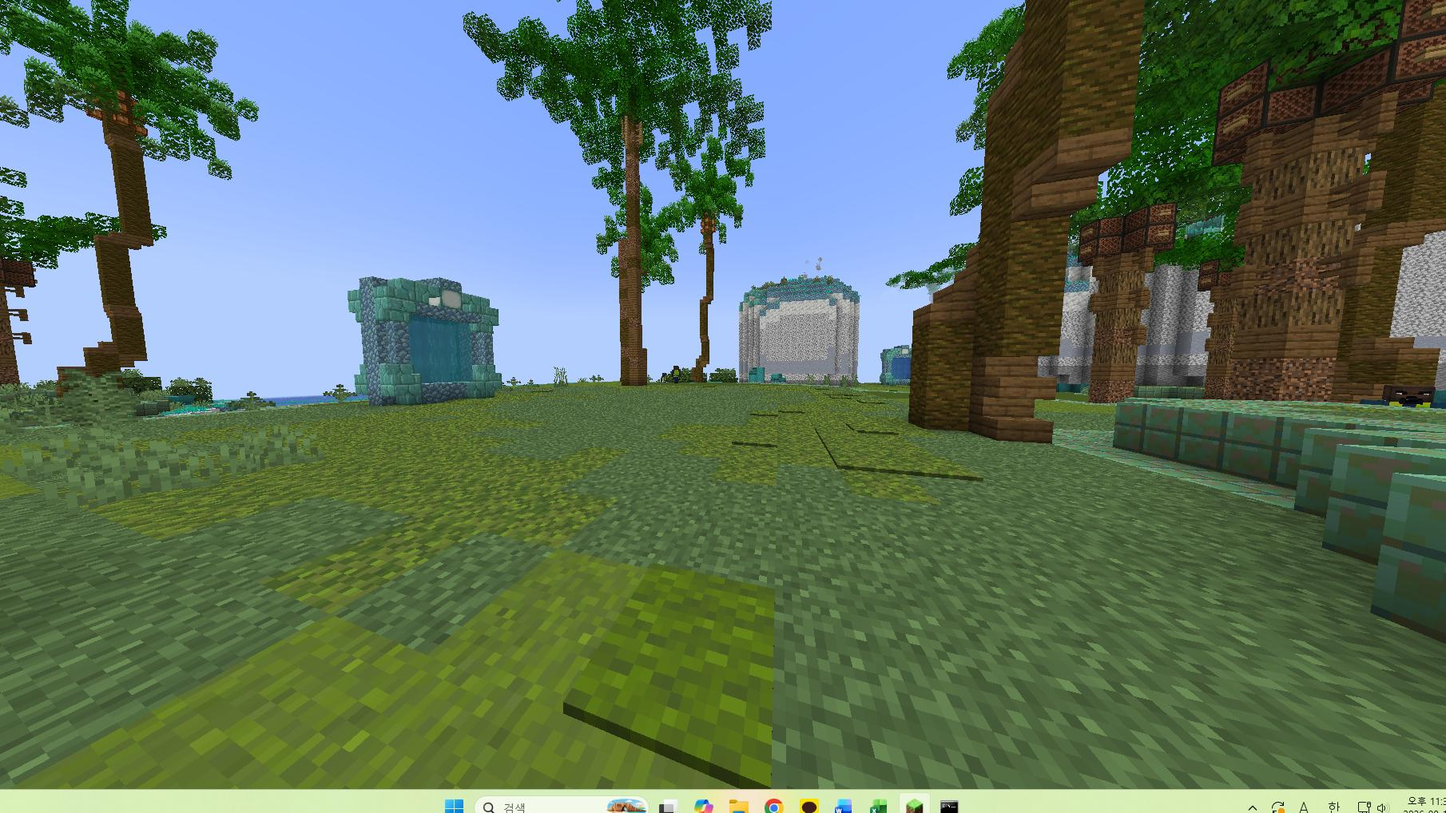Guardian: (669, 364, 682, 382)
